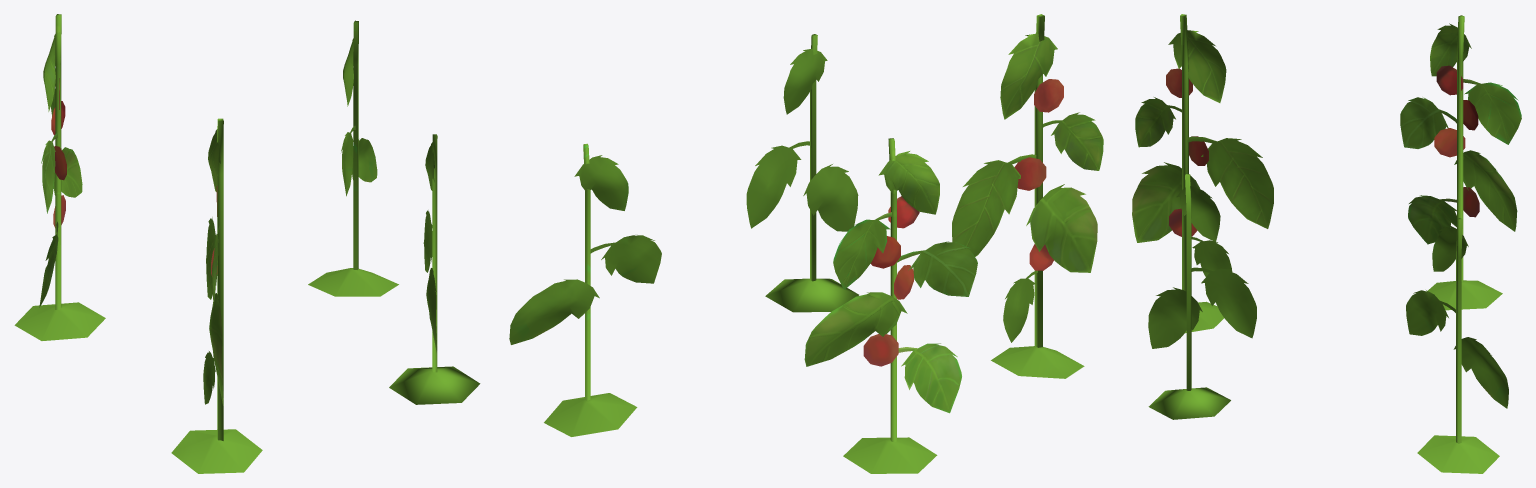
The model's file is tomatoes.glb.
3 renders of one model, left to right at view 1: azimuth 30°, elevation 25°; view 2: azimuth 150°, elevation 25°; view 3: azimuth 270°, elevation 25°, orthographic. The views are drawn at different scales.
Visible parts, largest first — view 1: plantsJoined; view 2: plantsJoined; view 3: plantsJoined.
Boxes of the visible parts, box(x1,y1,x2,y2) form: plantsJoined: box(14, 14, 480, 473); plantsJoined: box(509, 14, 1103, 473); plantsJoined: box(1132, 14, 1521, 473).
Size of the model in its own units: 0.4567 by 0.3882 by 0.4307.
1 material, 1 textured.
